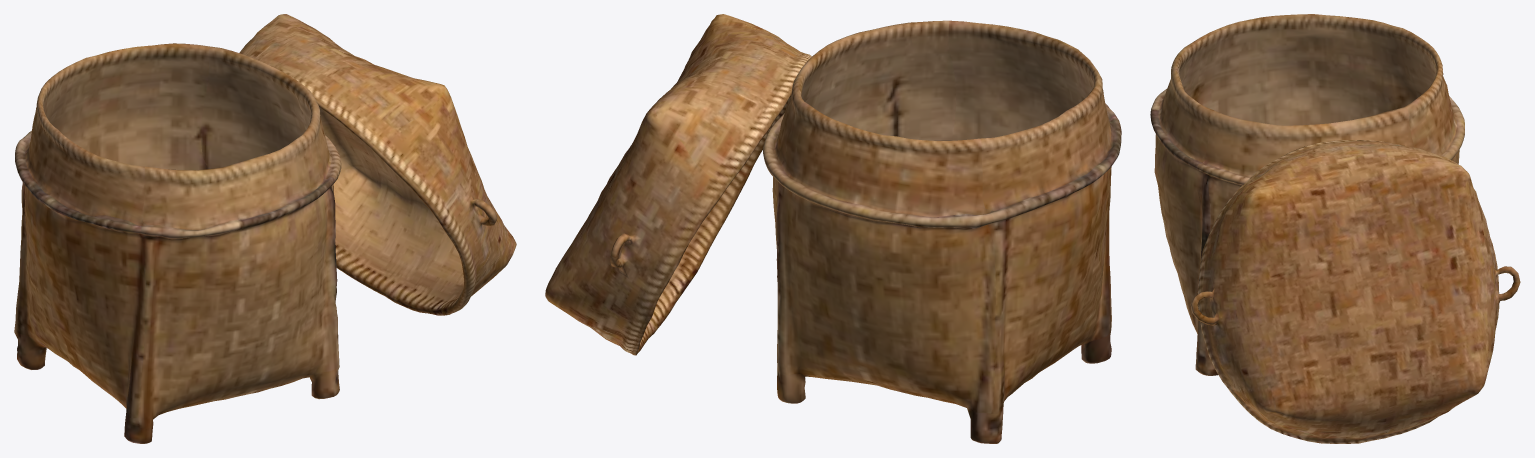
File: wicker_basket_02.glb
3 renders of one model, left to right at view 1: azimuth 30°, elevation 25°; view 2: azimuth 150°, elevation 25°; view 3: azimuth 270°, elevation 25°, orthographic. The views are drawn at different scales.
Visible parts, largest first — view 1: wicker_basket_02_base, wicker_basket_02_lid; view 2: wicker_basket_02_base, wicker_basket_02_lid; view 3: wicker_basket_02_lid, wicker_basket_02_base.
Boxes of the visible parts, x1,y1,x2,y2 form: wicker_basket_02_base: (14, 43, 341, 443); wicker_basket_02_lid: (239, 14, 516, 315); wicker_basket_02_base: (763, 20, 1121, 443); wicker_basket_02_lid: (545, 14, 811, 355); wicker_basket_02_lid: (1190, 140, 1520, 443); wicker_basket_02_base: (1150, 14, 1464, 375).
Bounding box in the file's own units: 0.3469 × 0.2005 × 0.2544.
Materials: 1 (1 with a texture image).
